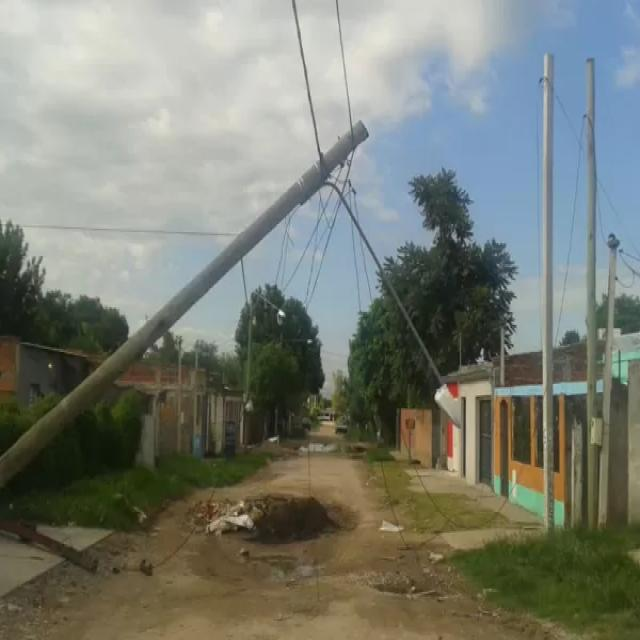Inclined Pole: (0, 115, 464, 489)
